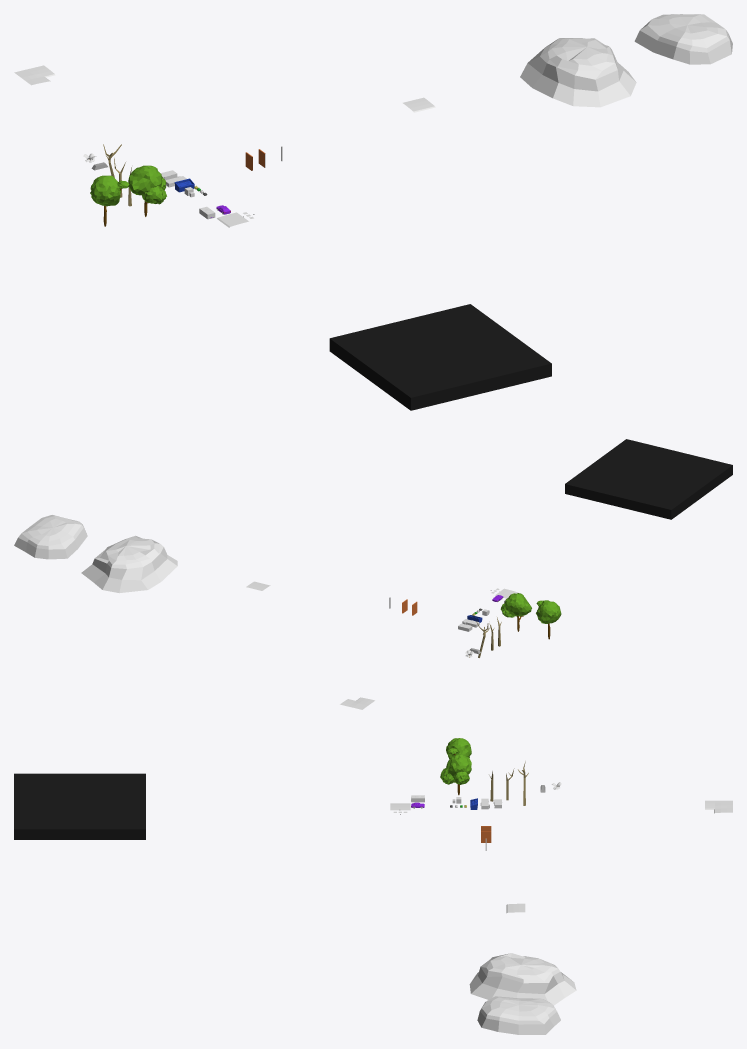
Rendered from assets_event1_char1.glb.
3 views of the same model, one above another, from view 1: azimuth 30°, elevation 25°; view 2: azimuth 150°, elevation 25°; view 3: azimuth 270°, elevation 25° (orthographic). The views are drawn at different scales.
Parts seen in each view (by area): view 1: monte_sucata1, monte_lixo2, monte_lixo1.024, tree_manga2, tree_manga1; view 2: monte_sucata1, monte_lixo2, monte_lixo1.024, tree_manga2, tree_manga1; view 3: monte_sucata1, monte_lixo2, monte_lixo1.024, tree_manga2.
Part boxes in pixels (x1,y1,x2,y2): monte_sucata1: [329, 304, 551, 410]; monte_lixo2: [520, 38, 636, 107]; monte_lixo1.024: [634, 14, 732, 64]; tree_manga2: [128, 165, 166, 216]; tree_manga1: [90, 175, 129, 226]; monte_sucata1: [565, 439, 732, 519]; monte_lixo2: [81, 535, 177, 593]; monte_lixo1.024: [14, 515, 87, 559]; tree_manga2: [500, 593, 531, 631]; tree_manga1: [536, 600, 561, 639]; monte_sucata1: [14, 773, 145, 839]; monte_lixo2: [469, 953, 576, 1005]; monte_lixo1.024: [477, 996, 560, 1034]; tree_manga2: [440, 754, 471, 795].
Bounding box in the file's own units: 246 × 20.53 × 283.
